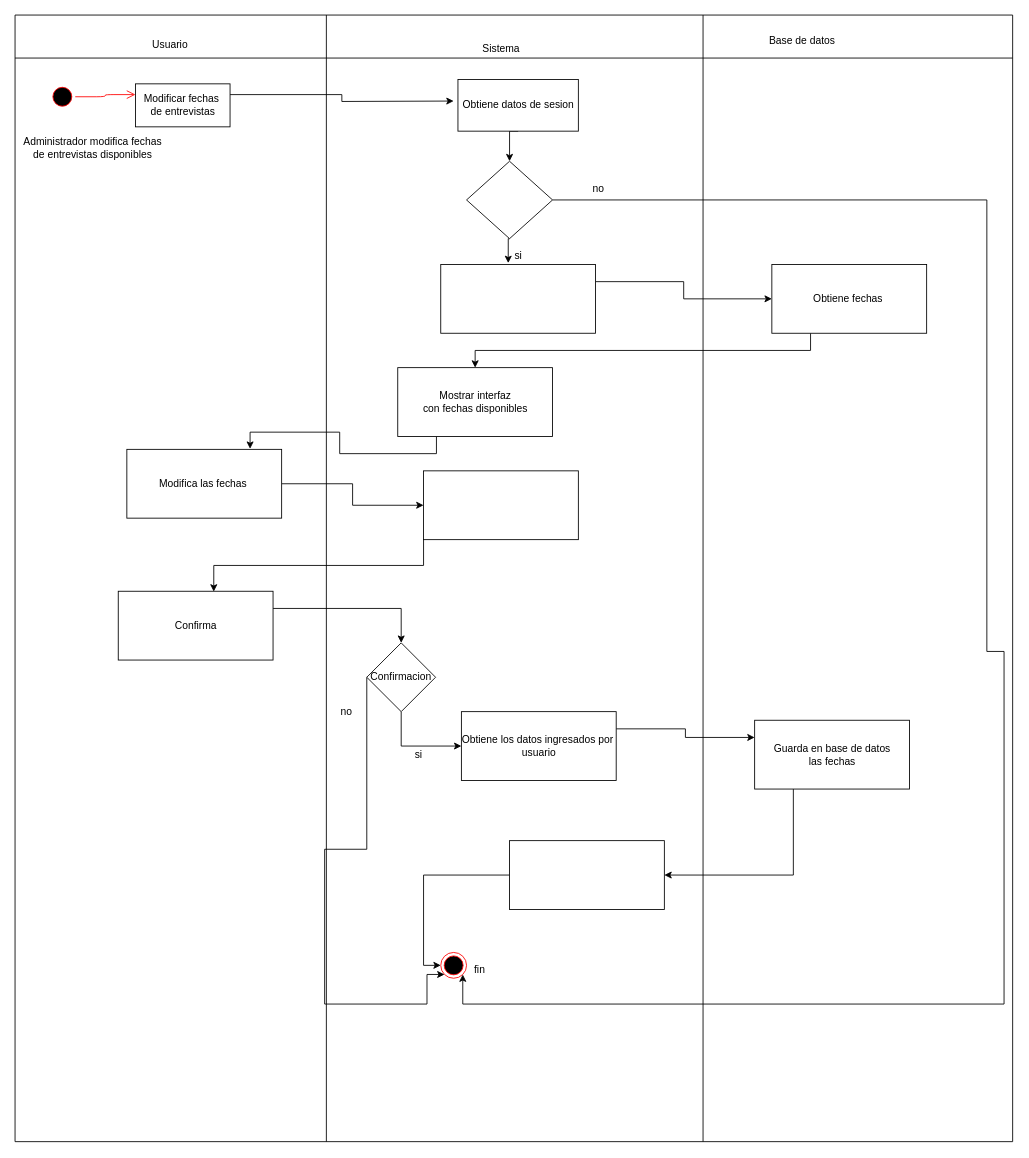
Image size: 1029x1158. Some labels were removed from this diagram. Here are the shapes that lost their labels. From the top down, the box of each, then its label:
(466, 160, 553, 239): Validacion de usuario
(440, 264, 596, 333): Consulta fecha
(423, 470, 578, 540): muestra confirmacion
(509, 840, 664, 909): Mostrar registo exitoso
